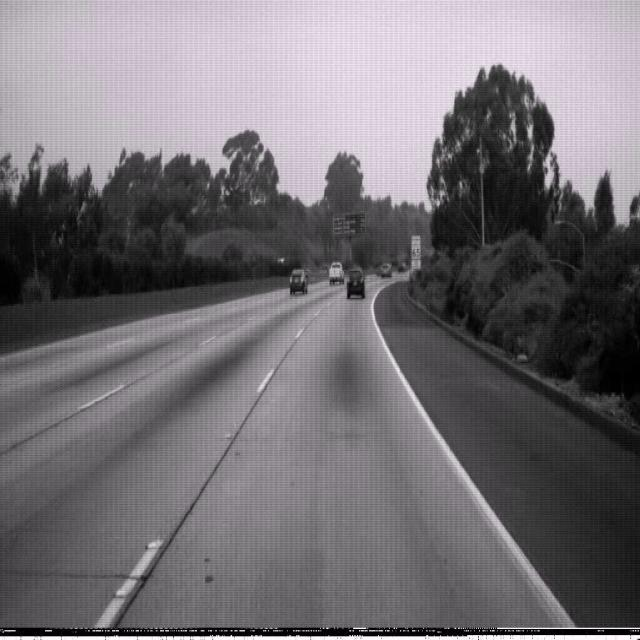speedLimit65: (411, 233, 421, 260)
